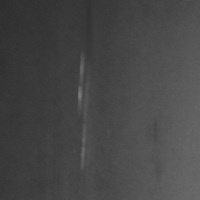inclusion: (147, 119, 162, 153)
scratches: (75, 49, 93, 170)
